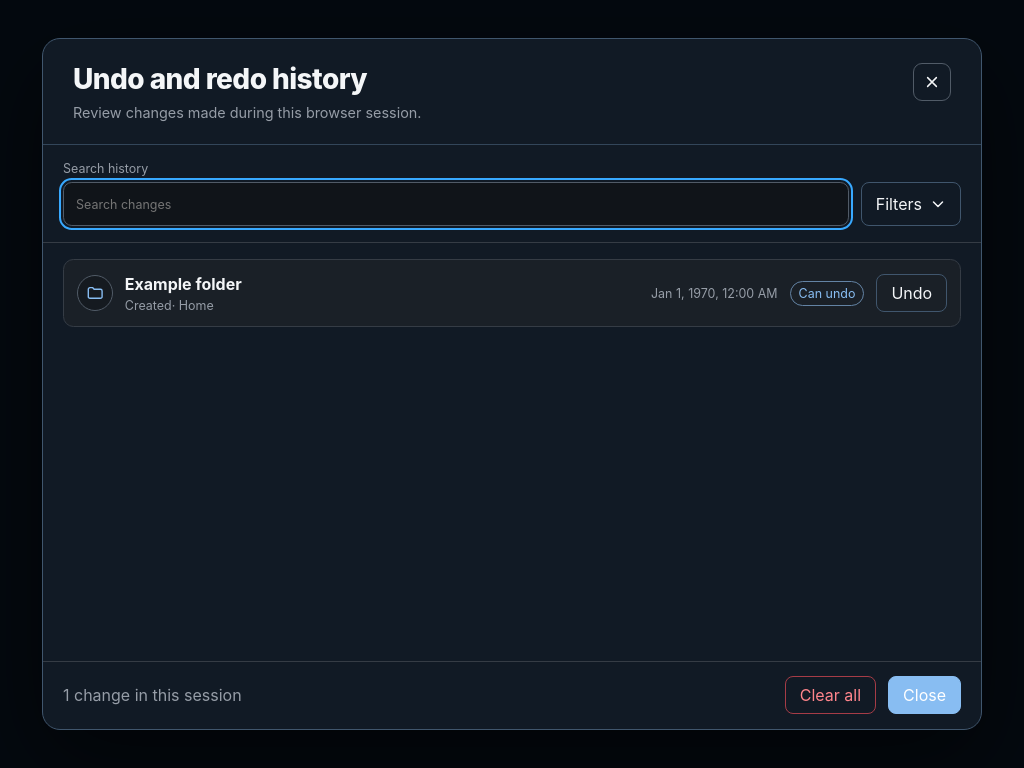
Test case: UndoHistoryDialog › clears the active profile history after confirmation
Step 1. Click the button "Clear all" → (830, 695), box [785, 676, 876, 714]
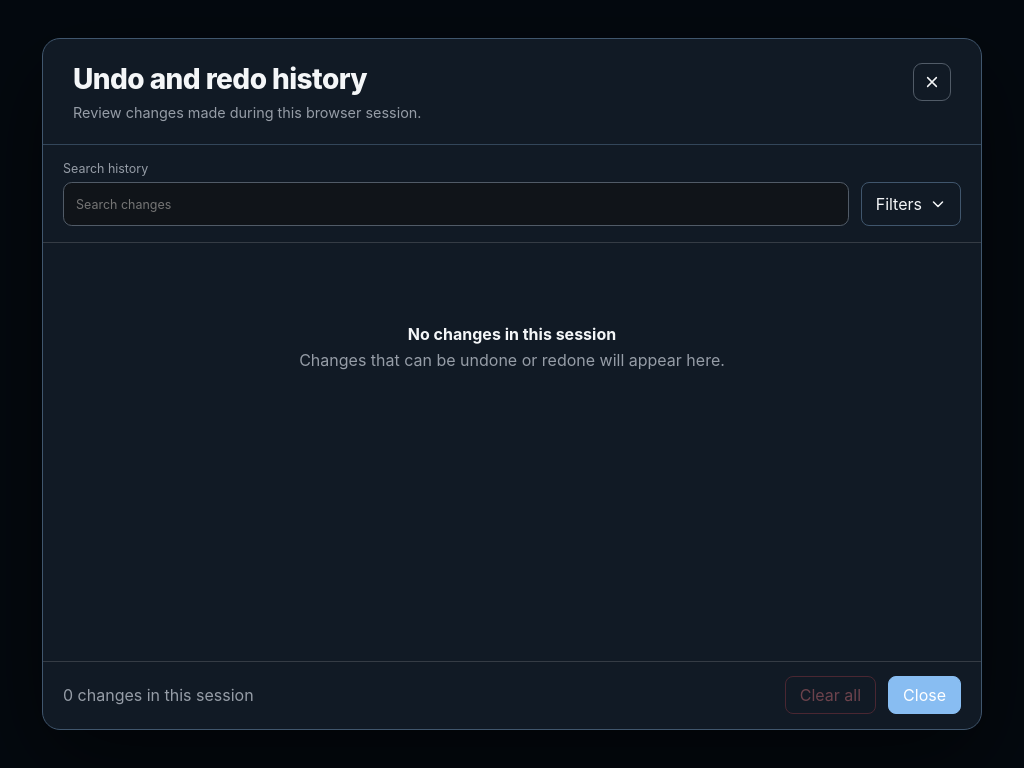
Check: the text "No changes in this session" is shown, box [408, 324, 616, 344]
